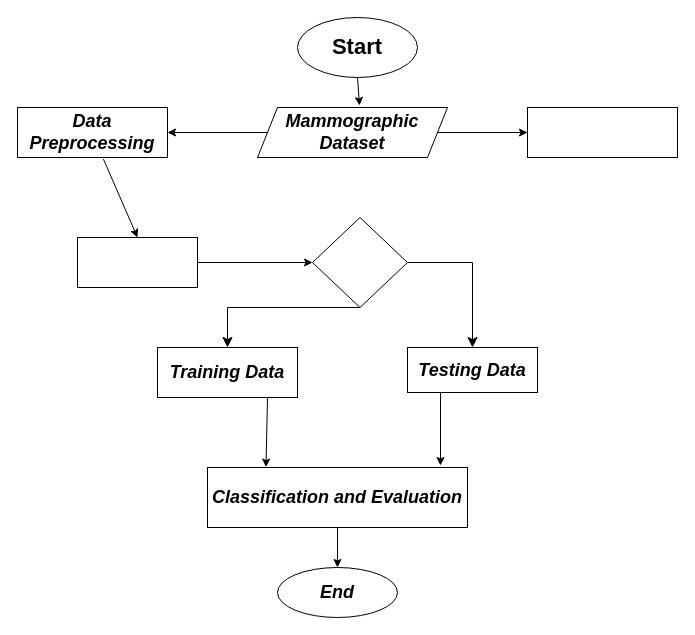
This 695x635 diagram has some shape labels left out. Here are the shapes that lost their labels. From the top down, the centre of each, then its label:
At point (602, 132): "Data Augmentation".
At point (137, 262): "Feature Extraction".
At point (360, 262): "Split".
